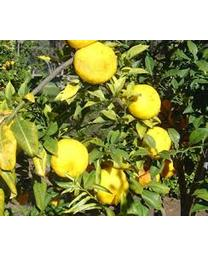lemon: (74, 42, 118, 84), (51, 137, 88, 177), (127, 85, 161, 119), (145, 127, 171, 154)
